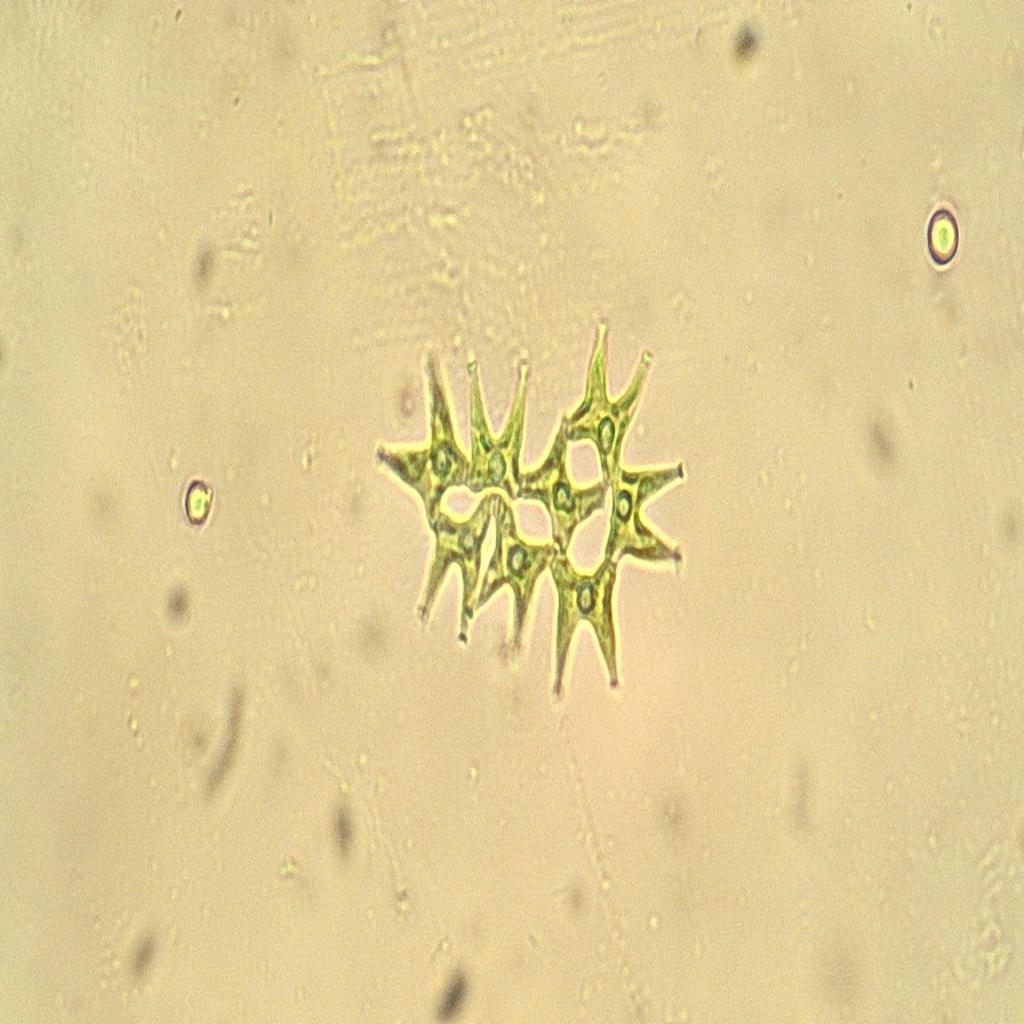Pediastrum_CFI: (358, 311, 695, 714)
